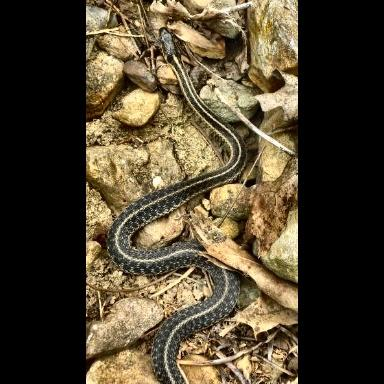snake: (107, 29, 248, 384)
